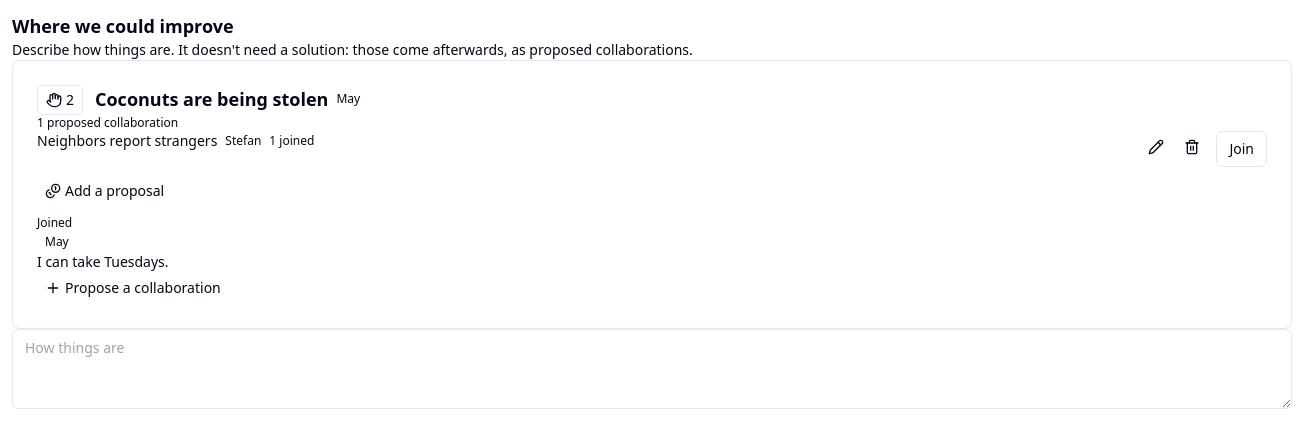
ChallengesSection › my own proposed collaborations › lets the author reword their proposal
Click the button named "Edit this proposed collaboration".
click(1156, 147)  # box [1140,131,1172,163]
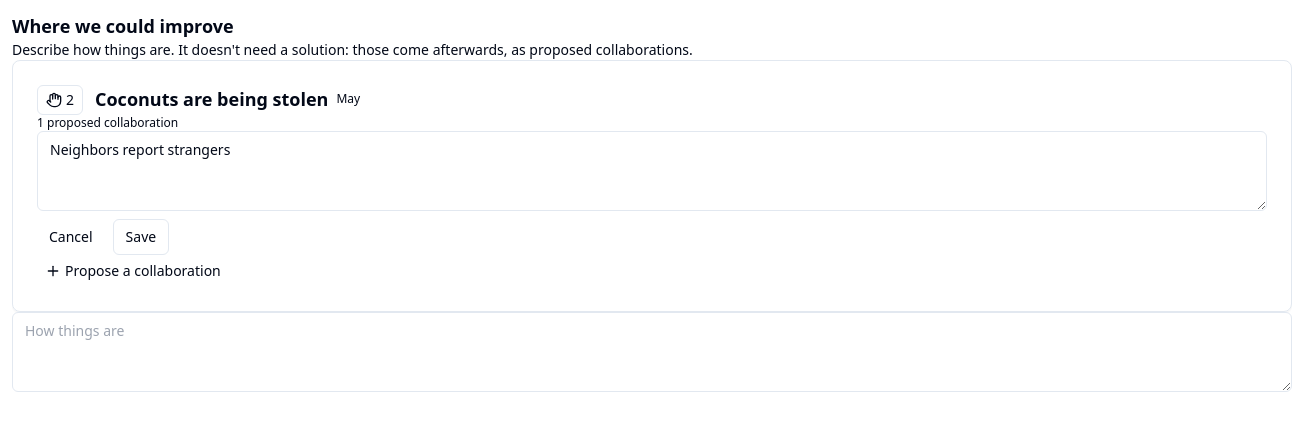
Replace the text in the text box named "Edit this proposed collaboration" with "Neighbors report strangers to the barangay " at (652, 171), box [37,131,1267,211]
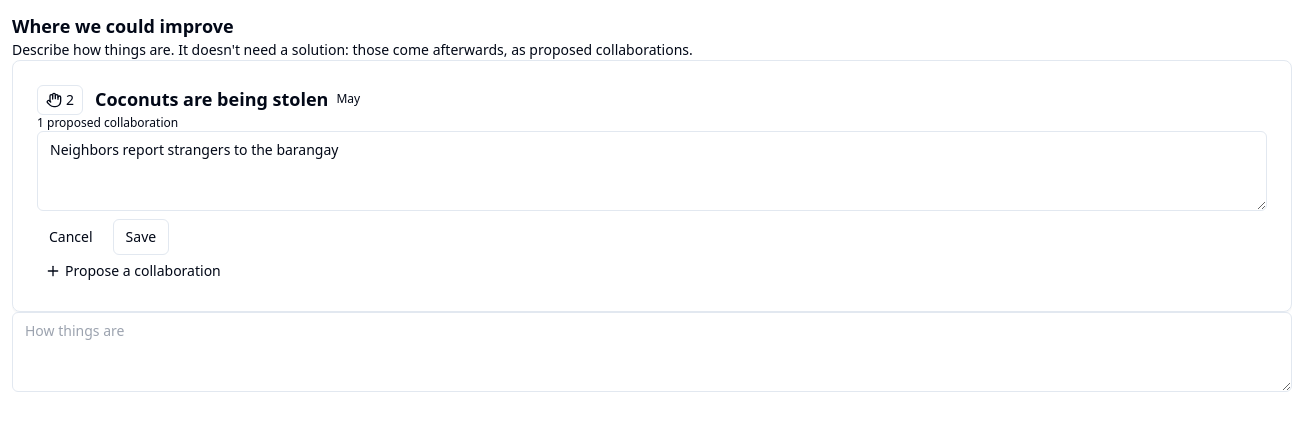
Click the button "Save".
click(141, 237)  # box [113,219,169,255]
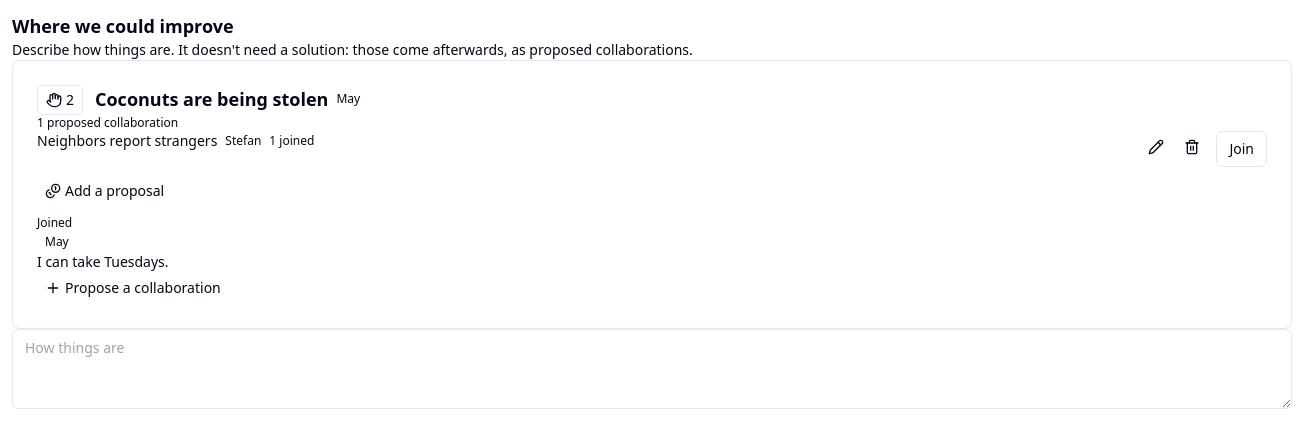
Expected: the button "Save" is gone
